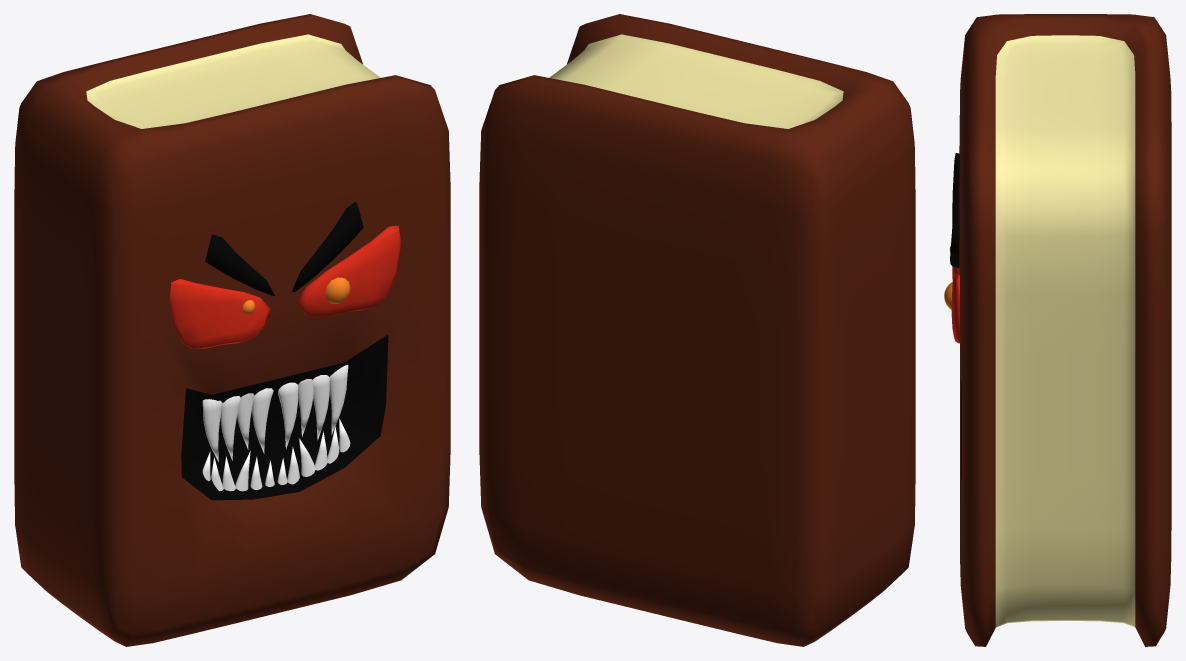
Rendered from EvilBook1.fbx.
3 renders of one model, left to right at view 1: azimuth 30°, elevation 25°; view 2: azimuth 150°, elevation 25°; view 3: azimuth 270°, elevation 25°, orthographic.
Parts seen in each view (by area): view 1: EvilBook; view 2: EvilBook; view 3: EvilBook.
Part boxes in pixels (box(x1,y1,x2,y2)): EvilBook: box(14, 14, 450, 646); EvilBook: box(479, 14, 915, 646); EvilBook: box(944, 14, 1171, 646).
Size of the model in its own units: 143 by 199 by 81.41.
1 material, 1 textured.
